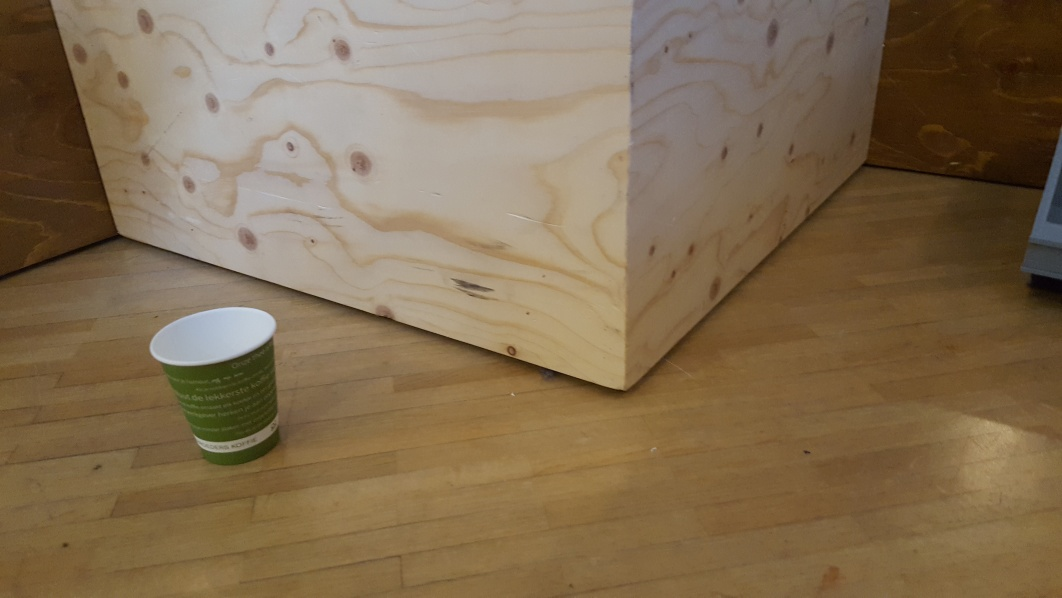cup: (149, 304, 283, 463)
